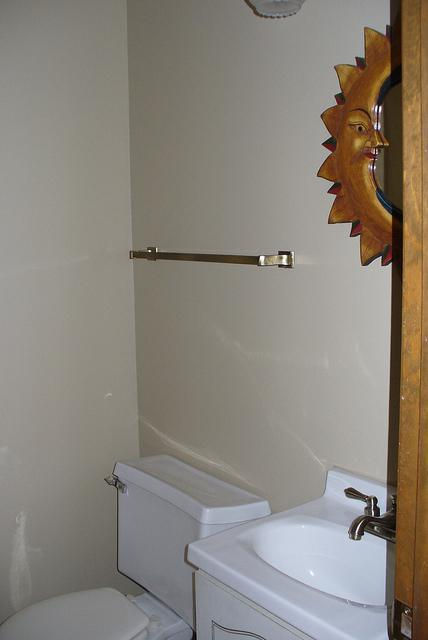Lavamanos: (188, 473, 415, 636)
Sanitario: (6, 453, 271, 638)
